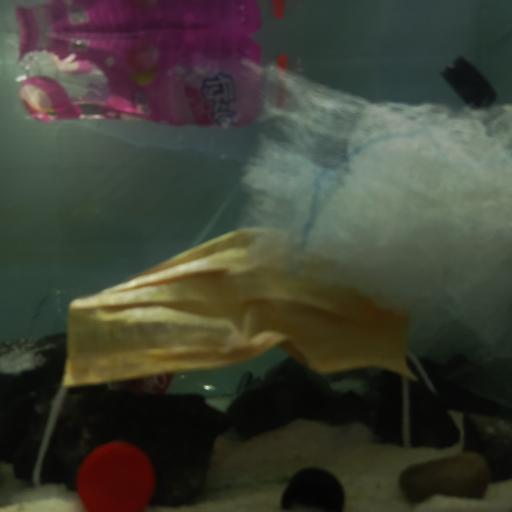bottle_cap: (78, 440, 157, 512), (281, 465, 346, 512), (444, 56, 495, 114)
mask: (58, 222, 420, 394)
net: (240, 71, 512, 375)
plastic_bottle: (18, 33, 292, 131), (28, 288, 260, 400)
